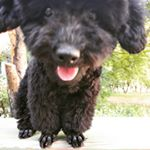puppy: (2, 1, 147, 145)
